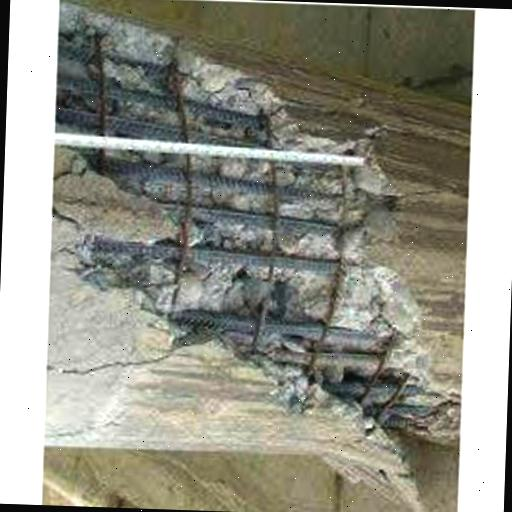spalling: (50, 26, 446, 440)
